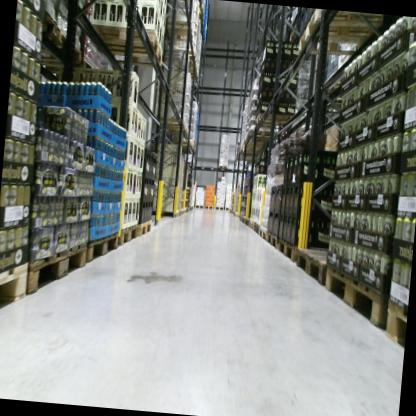pallet: (321, 259, 391, 332), (293, 9, 386, 61), (87, 17, 167, 75), (27, 237, 89, 303), (37, 25, 88, 72), (294, 246, 332, 289), (0, 262, 30, 316), (84, 227, 121, 267), (381, 296, 407, 351), (252, 110, 293, 133), (34, 7, 59, 39), (277, 235, 302, 264), (167, 47, 199, 68), (150, 112, 187, 129), (119, 222, 140, 247), (245, 130, 275, 144), (135, 218, 154, 240), (161, 122, 190, 135), (265, 229, 281, 251), (172, 137, 194, 148), (258, 226, 270, 244), (253, 221, 263, 239), (249, 219, 256, 232), (172, 210, 180, 219), (214, 205, 225, 211), (194, 203, 205, 209), (244, 218, 250, 228), (224, 206, 232, 213), (203, 205, 214, 210), (218, 164, 227, 170), (242, 216, 246, 223), (178, 210, 182, 217)
